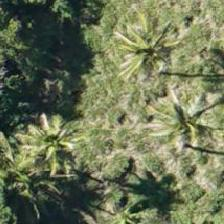coconut_tree: (108, 6, 198, 96), (0, 92, 86, 182), (161, 82, 223, 172)
